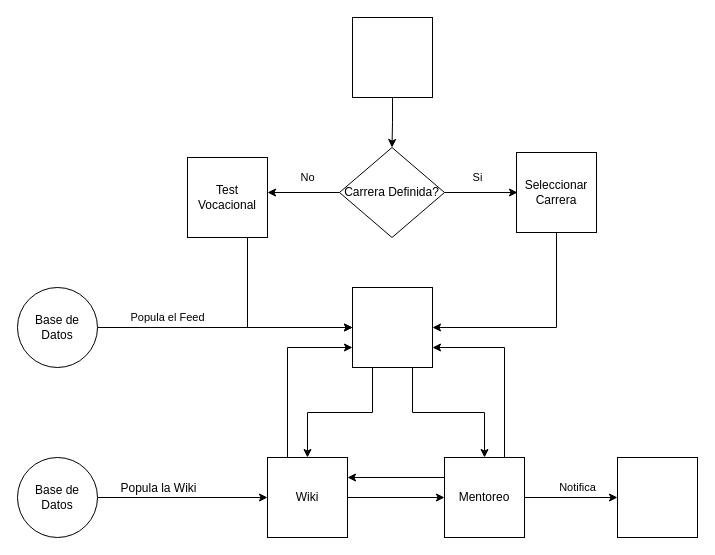
Image size: 715x555. Some labels were removed from this diagram. Here are the shapes that lost their labels. From the top down, the box of each, then its label:
(352, 16, 432, 98): Usuario
(352, 286, 432, 368): Feed
(616, 456, 698, 538): Plataforma Administrativa
